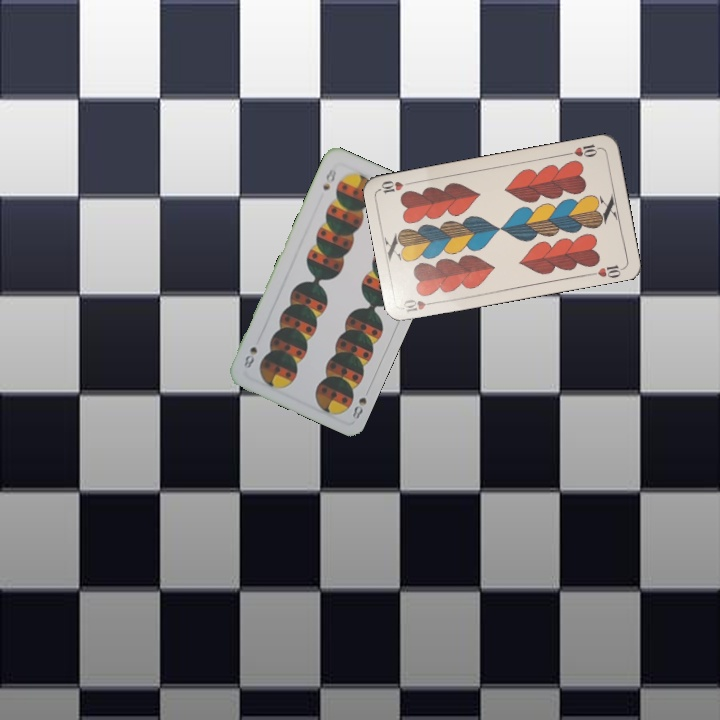H10: (399, 295, 440, 315), (563, 140, 603, 160)
S8: (348, 383, 373, 422), (319, 164, 339, 193)
